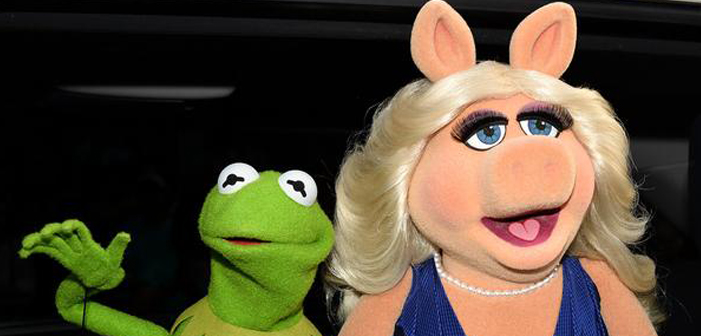kermit: (194, 163, 342, 320)
